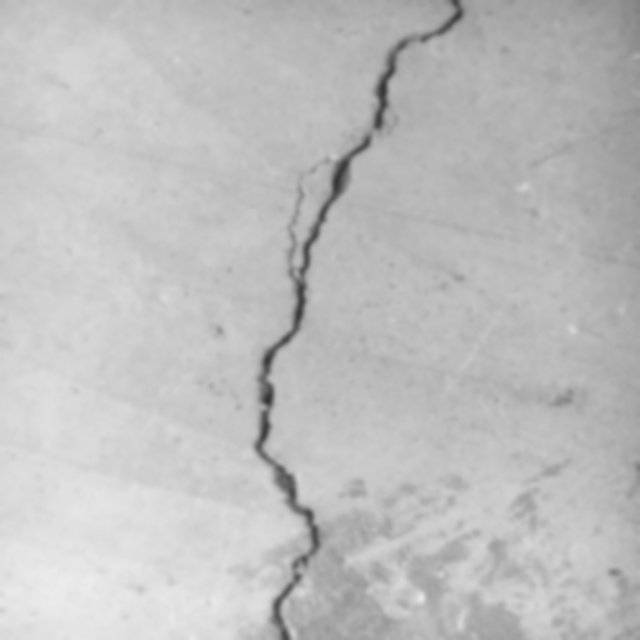SurfaceCrack: (221, 0, 478, 640)
